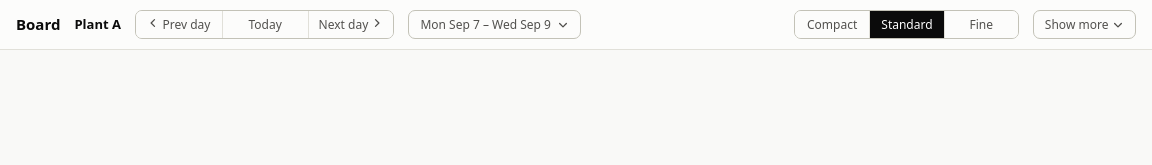
Test: S67-b: one row, closed on a fresh board › the button toggles, and remembers aria-expanded/aria-controls/its own text in step
Click the button "Show more" at (1084, 25), box [1033,10,1136,39]
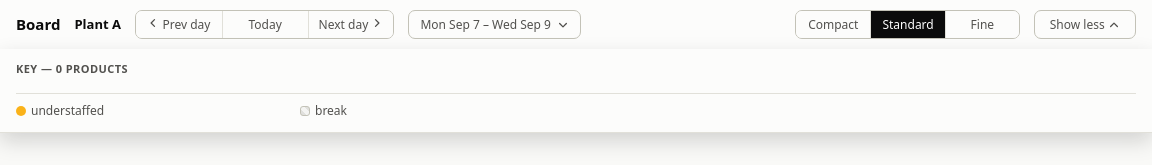
Check: the button "Show less" is shown
Check: the button "Show less" is expanded
Click the button "Show less" at (1085, 25), box [1034,10,1136,39]
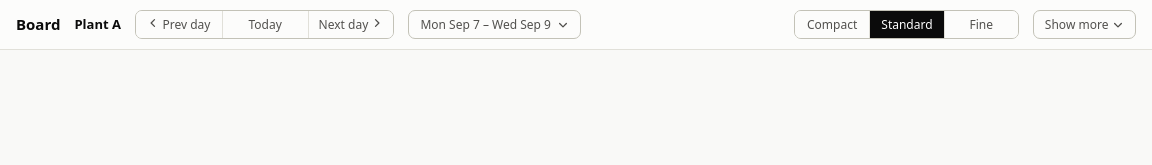
Check: the button "Show more" is shown, box [1033,10,1136,39]
Check: the button "Show more" is collapsed, box [1033,10,1136,39]
